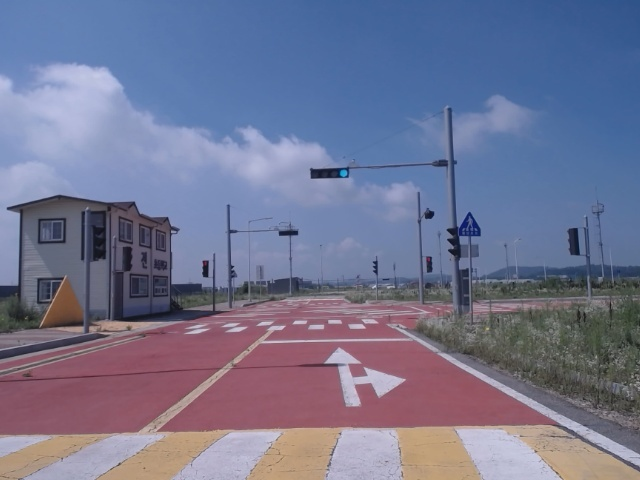straight_green_4: (310, 169, 349, 179)
